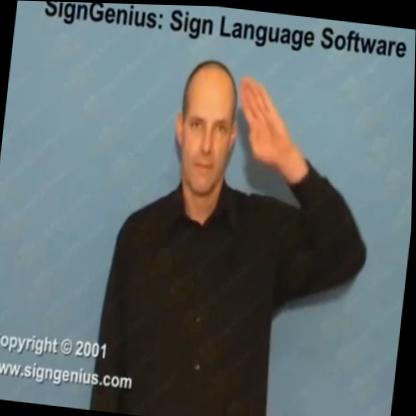Hello: (167, 50, 324, 230)
